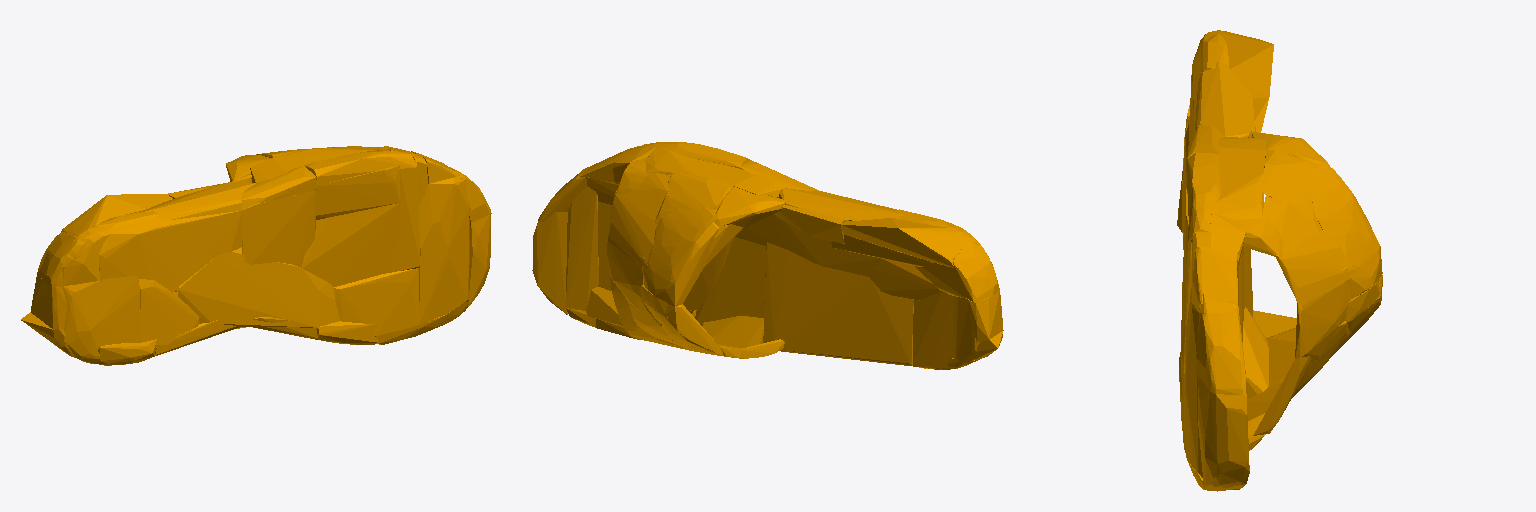
The robot description file, URDF, robot "shoe-blue":
<?xml version="1.0" ?>
<robot name="shoe-blue">
  <link name="baseLink">
    <contact>
      <lateral_friction value="1.0"/>
      <inertia_scaling value="3.0"/>
    </contact>
    <inertial>
      <origin rpy="0 0 0" xyz="0.000 0.000 0.000"/>
       <mass value=".1"/>
       <inertia ixx="1" ixy="0.0" ixz="0.0" iyy="1" iyz="0.0" izz="1"/>
    </inertial>
    <visual>
      <origin rpy="0 0 0" xyz="0 0 0"/>
      <geometry>
        <mesh filename="shoe/shoe-blue_75_right.obj" scale="1.0 1.0 1.0"/>
      </geometry>
    </visual>
    <collision>
      <origin rpy="0 0 0" xyz="0 0 0"/>
      <geometry>
        <mesh filename="../collision/shoe/shoe-blue_75_right.obj" scale="1.0 1.0 1.0"/>
      </geometry>
    </collision>
  </link>
</robot>
        

--- Render facts (derived) ---
3 views of the same robot in one strip: view 1: azimuth 30°, elevation 25°; view 2: azimuth 150°, elevation 25°; view 3: azimuth 270°, elevation 25° (orthographic).
Model shoe-blue with 1 links and 0 joints (none), rooted at baseLink, posed all joints at 0.
Visible links, largest first — view 1: baseLink; view 2: baseLink; view 3: baseLink.
Link boxes in pixels (box(x1,y1,x2,y2)): baseLink: box(21, 146, 491, 365); baseLink: box(532, 142, 1003, 369); baseLink: box(1177, 30, 1382, 491).
Bounding box of the posed robot: 0.3039 × 0.0901 × 0.1325 m (x, y, z).
1 mesh visuals loaded from 1 distinct referenced files (1 OBJ).